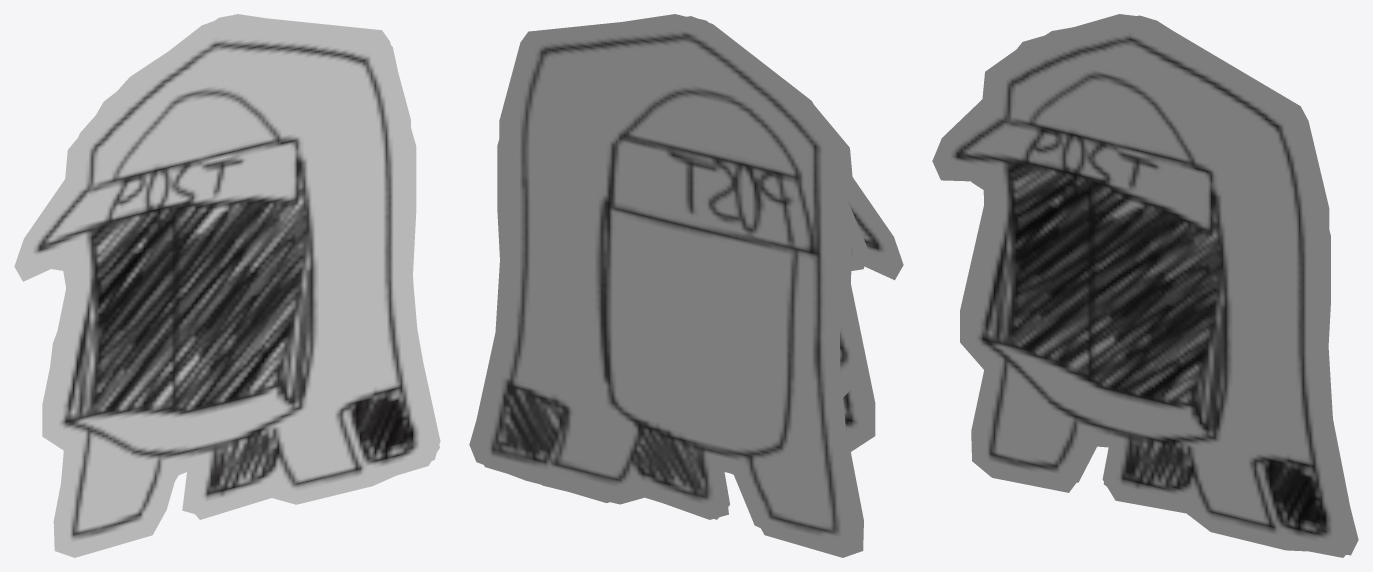
Rendered from BrevWalk.fbx.
3 views of the same model, side by side, from view 1: azimuth 30°, elevation 25°; view 2: azimuth 150°, elevation 25°; view 3: azimuth 330°, elevation 25° (orthographic).
Parts seen in each view (by area): view 1: Brevlada4, Brevlada3, Brevlada2, Brevlada1; view 2: Brevlada1, Brevlada4, Brevlada3, Brevlada2; view 3: Brevlada4, Brevlada3, Brevlada2, Brevlada1.
Part boxes in pixels (x1=…): Brevlada4: x1=14, y1=19, x2=437, y2=557; Brevlada3: x1=50, y1=17, x2=439, y2=527; Brevlada2: x1=63, y1=14, x2=439, y2=499; Brevlada1: x1=61, y1=15, x2=440, y2=513; Brevlada1: x1=469, y1=16, x2=854, y2=548; Brevlada4: x1=541, y1=19, x2=903, y2=557; Brevlada3: x1=484, y1=16, x2=868, y2=553; Brevlada2: x1=476, y1=14, x2=857, y2=553; Brevlada4: x1=932, y1=16, x2=1349, y2=552; Brevlada3: x1=971, y1=14, x2=1354, y2=557; Brevlada2: x1=1138, y1=16, x2=1356, y2=555; Brevlada1: x1=1045, y1=15, x2=1358, y2=553.
Size of the model in its own units: 34.08 by 38.32 by 0.393.
Materials: 1 (1 with a texture image).
